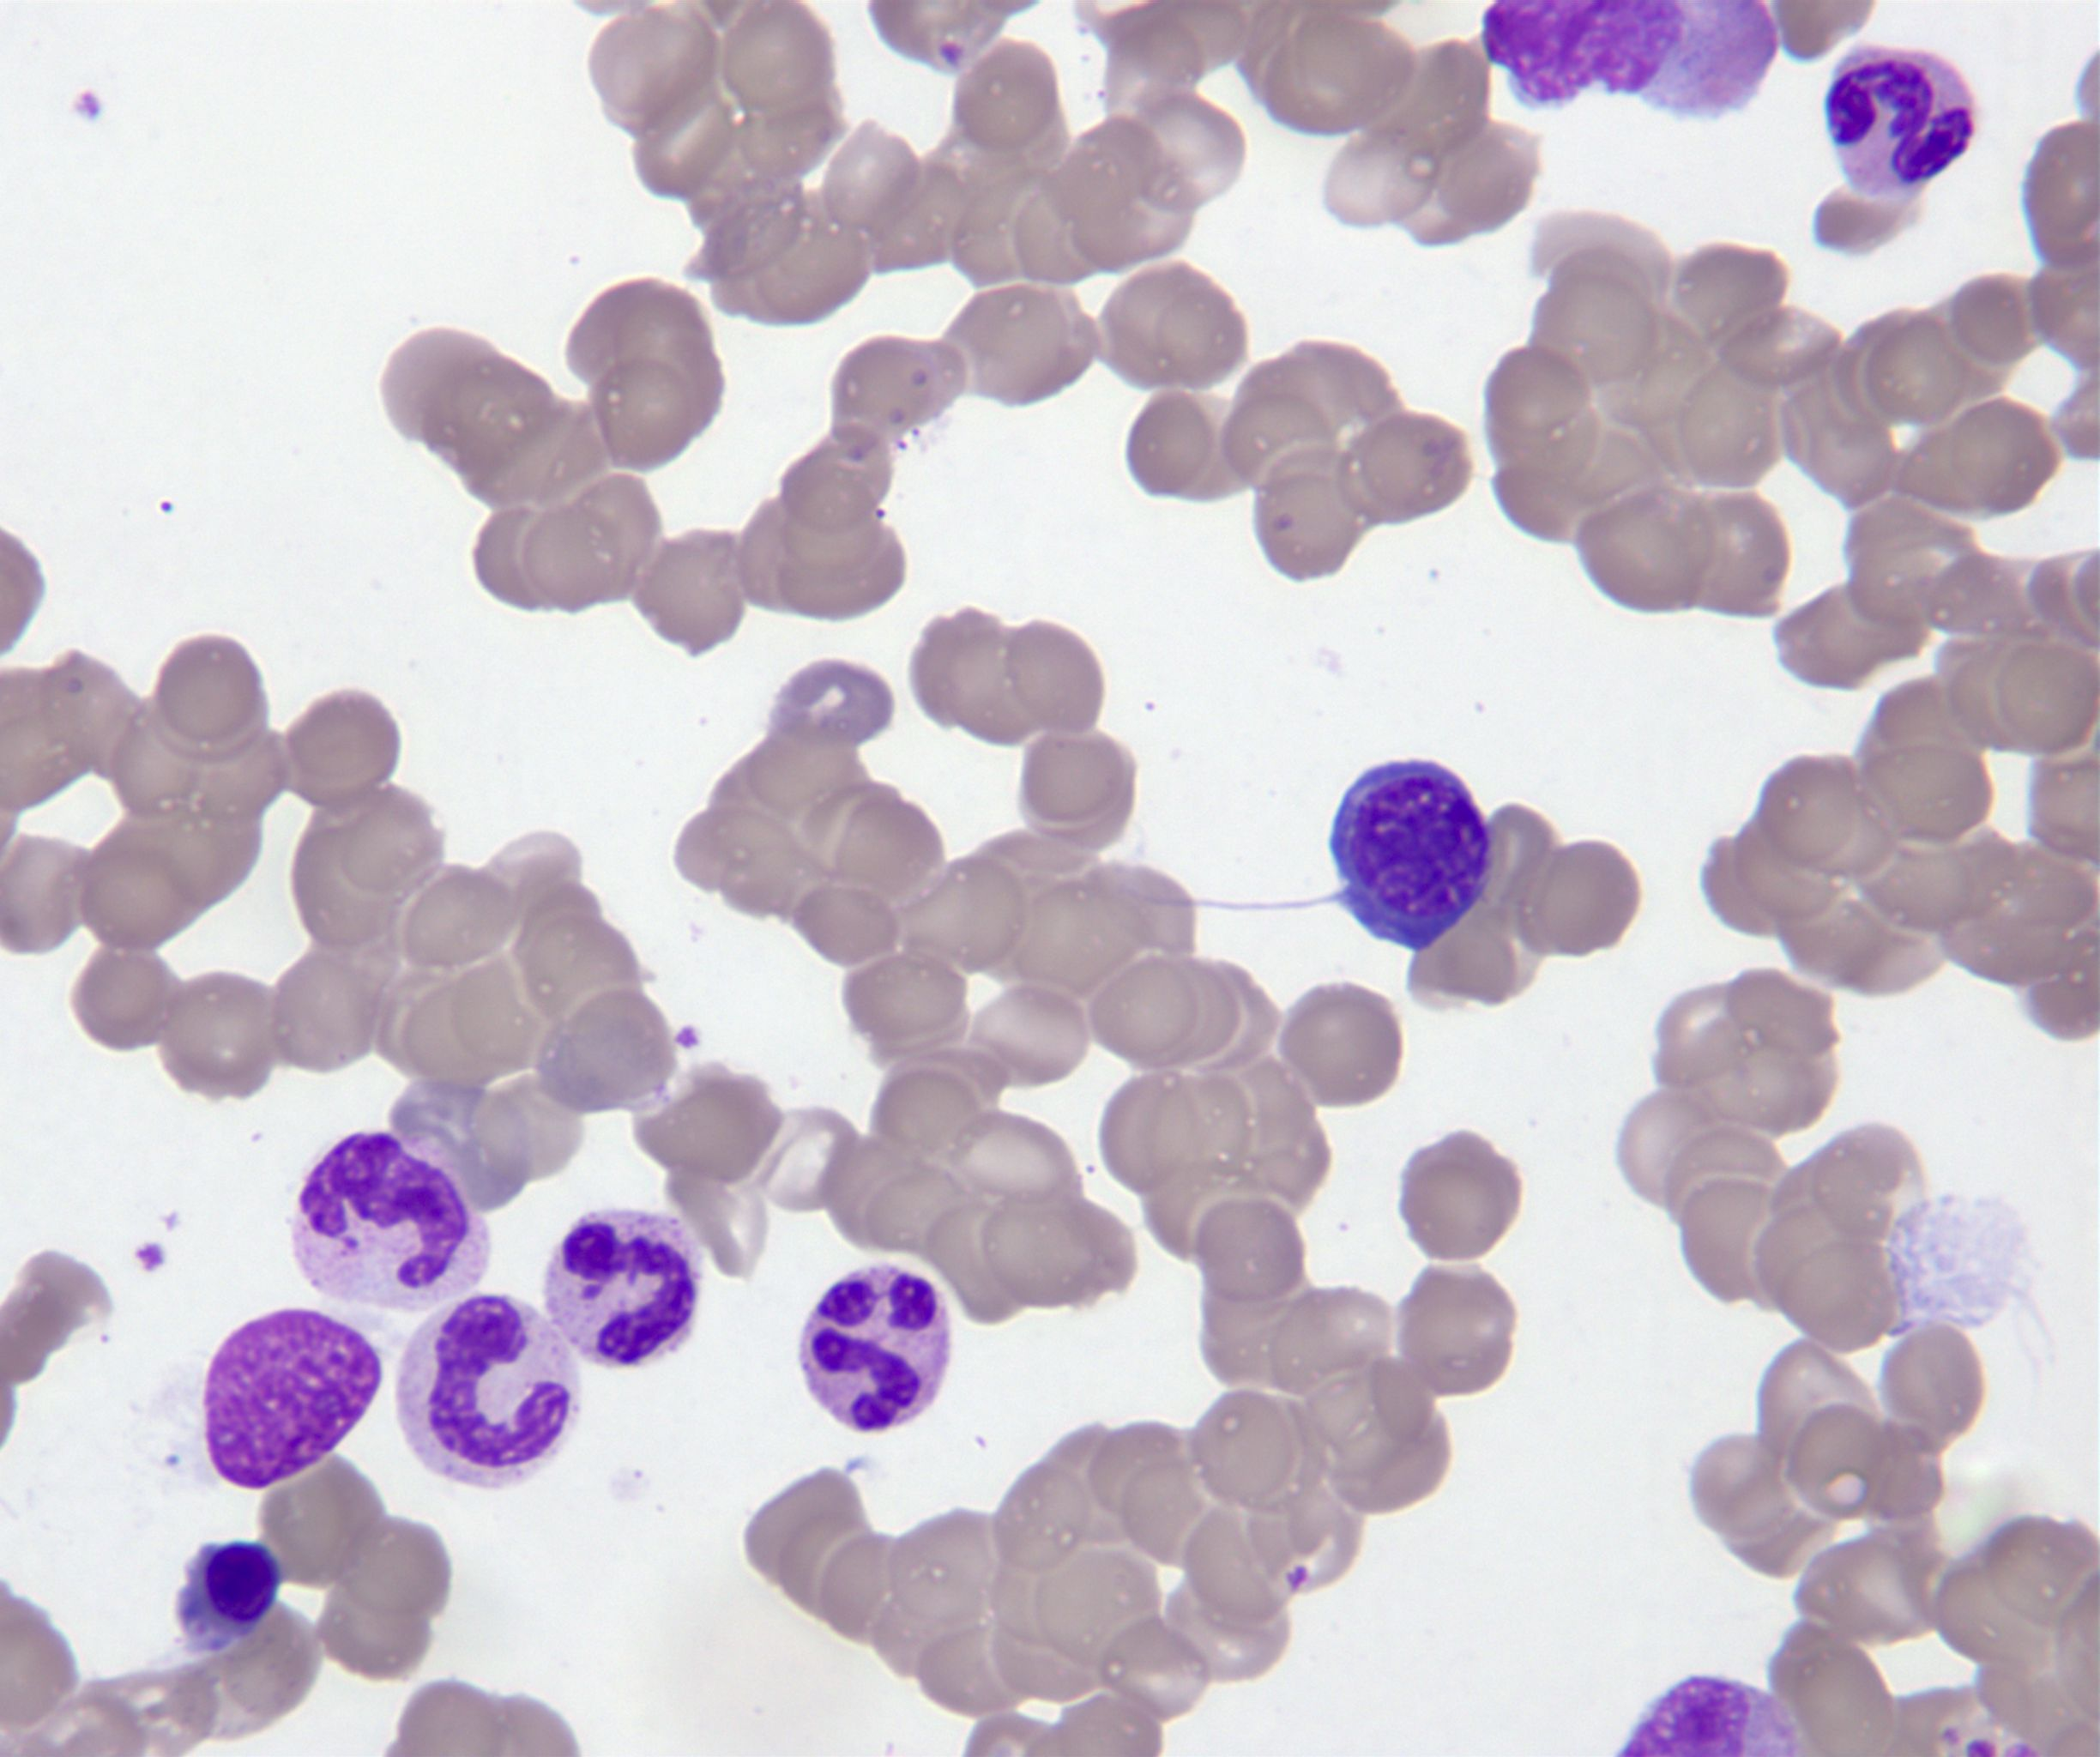23: (1322, 752, 1495, 958)
24: (173, 1537, 284, 1663)
5: (391, 1288, 591, 1495), (290, 1125, 495, 1323), (537, 1199, 708, 1371), (1819, 37, 1981, 202)
6: (794, 1261, 954, 1438)
x: (197, 1302, 385, 1495)
